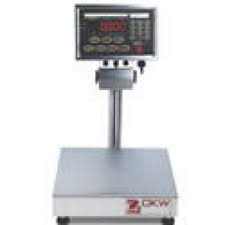Industrial Scale: (52, 3, 181, 224)
